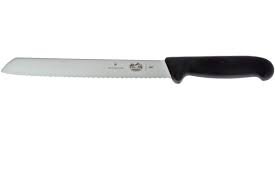knife: (1, 54, 275, 84)
